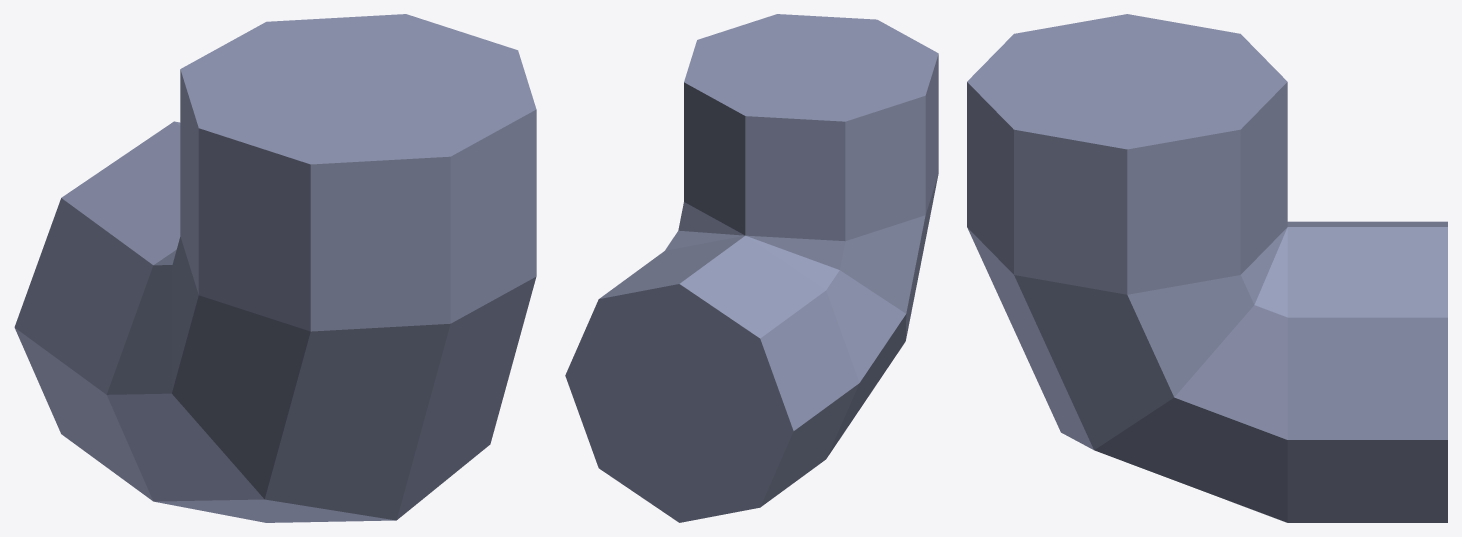
The model's file is gutter-vertical-bottom.obj.
3 renders of one model, left to right at view 1: azimuth 30°, elevation 25°; view 2: azimuth 150°, elevation 25°; view 3: azimuth 270°, elevation 25°, orthographic. The views are drawn at different scales.
Bounding box in the file's own units: 0.2 × 0.3 × 0.3.
